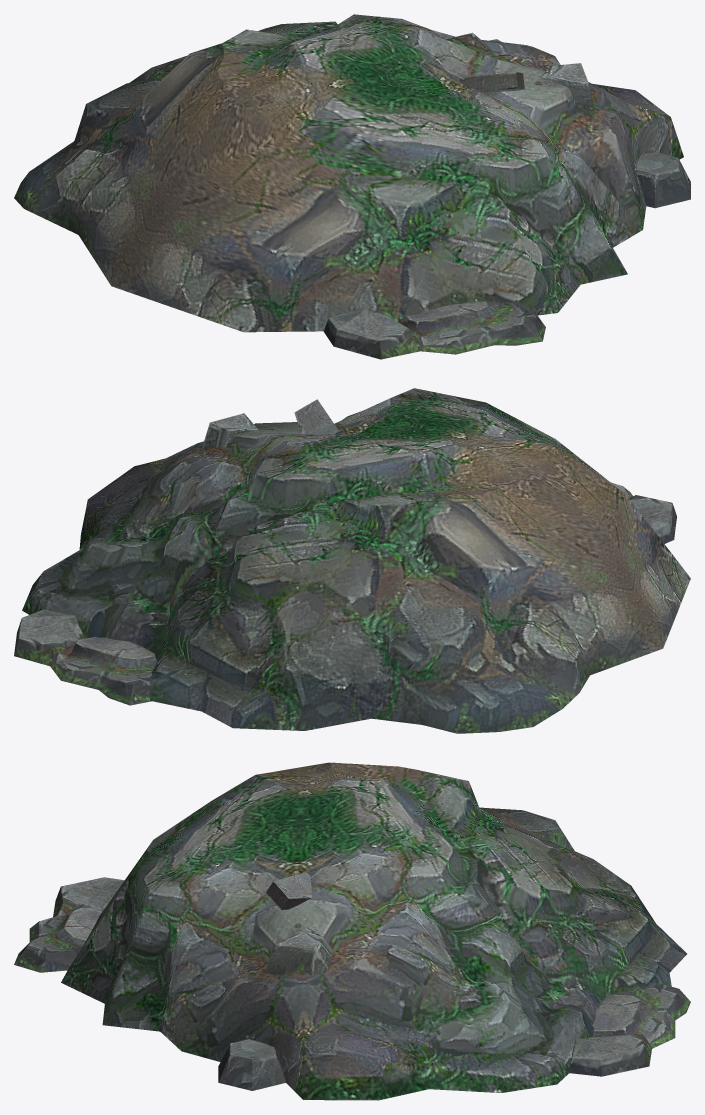
The model's file is Item_7.FBX.
The picture shows the model from 3 angles, top to bottom: view 1: azimuth 30°, elevation 25°; view 2: azimuth 150°, elevation 25°; view 3: azimuth 270°, elevation 25°; orthographic projection. The views are drawn at different scales.
Parts seen in each view (by area): view 1: Item_7; view 2: Item_7; view 3: Item_7.
Boxes of the visible parts, left/top/right/bottom form: Item_7: left=14, top=14, right=690, bottom=359; Item_7: left=14, top=388, right=690, bottom=733; Item_7: left=14, top=762, right=690, bottom=1100.
Size of the model in its own units: 383 by 110 by 422.
